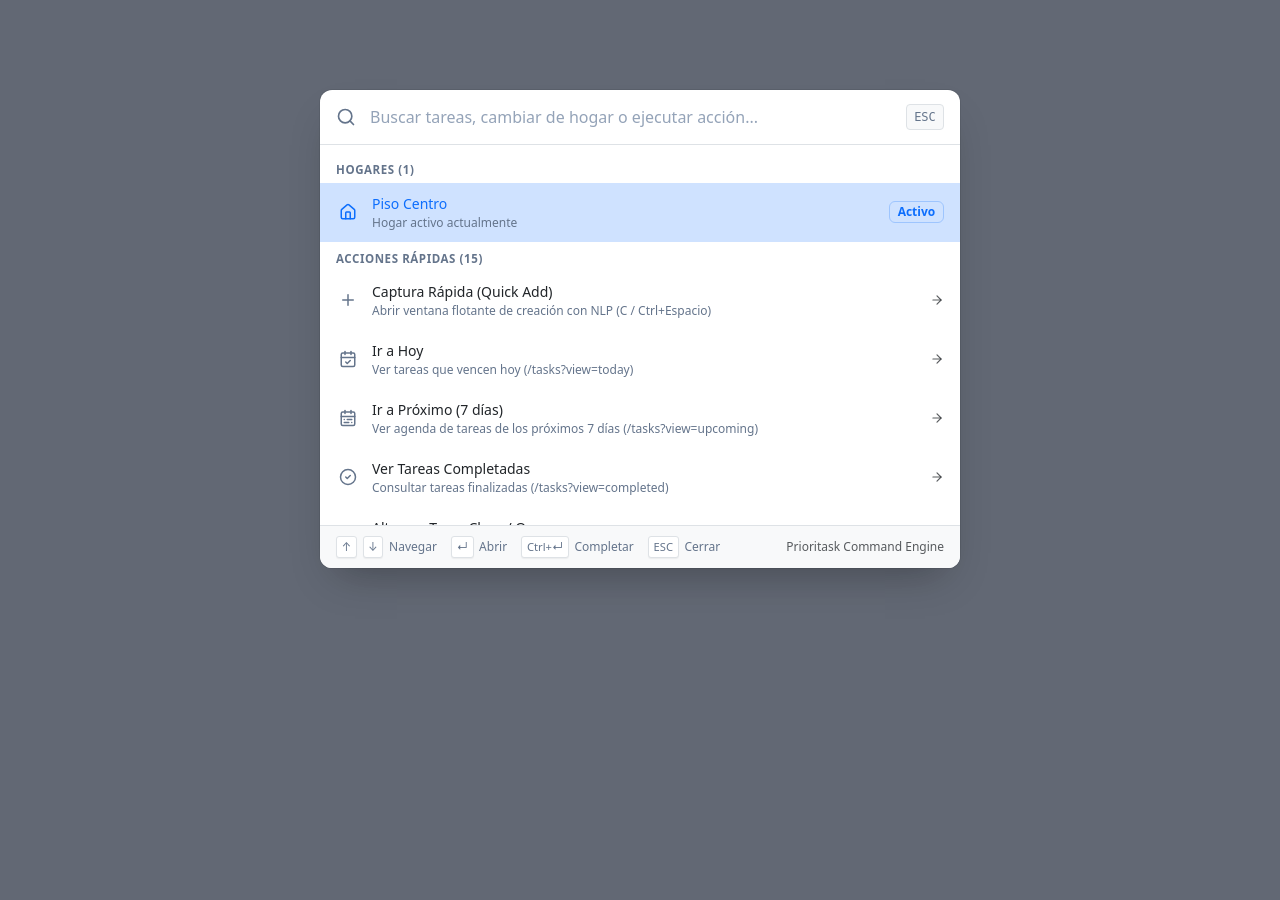
Test case: CommandPaletteModal (Multi-Tier Instant Search & LRU Cache) › Capa 1: debe filtrar instantáneamente (0 ms) sobre tareas en memoria en cacheManager
The image size is (1280, 900).
Type "Lavar" into the field with placeholder "Buscar tareas, cambiar de hogar o ejecutar acción..." at [631, 117], box [368, 104, 894, 130]
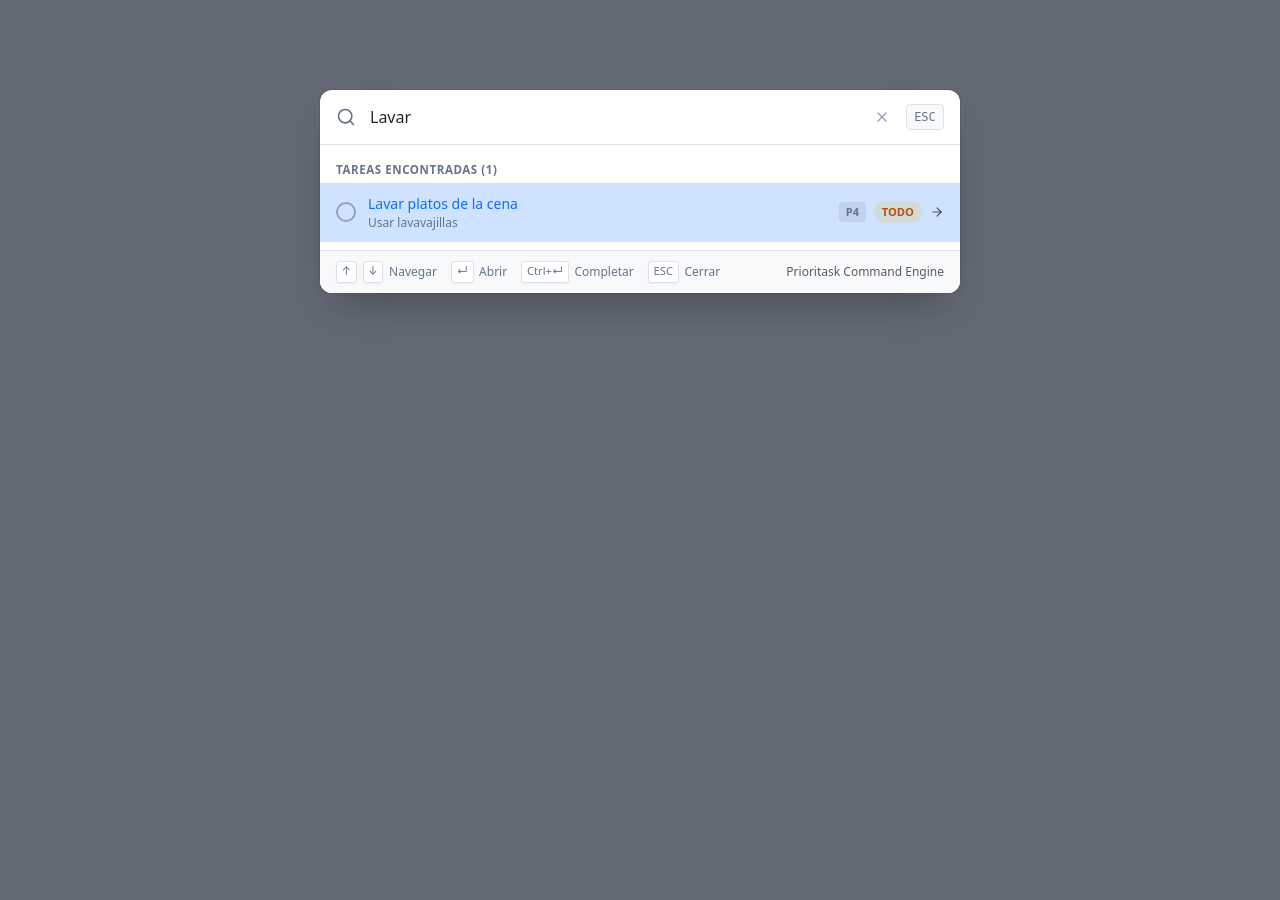
Now the text "Lavar platos de la cena" is shown, box [368, 193, 518, 214]
